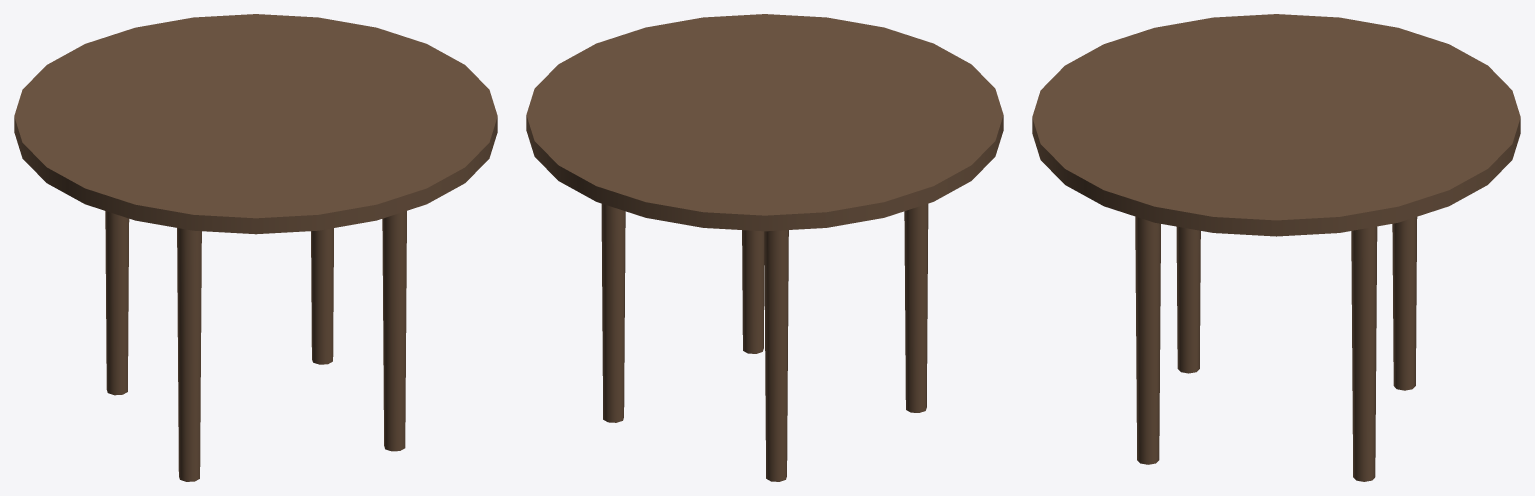
Rendered from gateleg.glb.
3 renders of one model, left to right at view 1: azimuth 30°, elevation 25°; view 2: azimuth 150°, elevation 25°; view 3: azimuth 270°, elevation 25°, orthographic. The views are drawn at different scales.
Visible parts, largest first — view 1: gateleg; view 2: gateleg; view 3: gateleg.
Part boxes in pixels (x1,y1,x2,y2): gateleg: [14, 14, 497, 481]; gateleg: [526, 14, 1003, 481]; gateleg: [1032, 14, 1520, 481].
Bounding box in the file's own units: 1.1 × 0.76 × 1.1.
